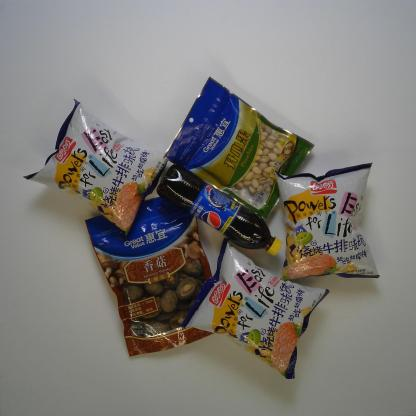Dried Food: (83, 195, 216, 358)
Dried Fruit: (162, 74, 316, 223)
Drink: (155, 163, 284, 257)
Puffed Food: (179, 236, 331, 381), (22, 97, 168, 241), (273, 162, 380, 282)
